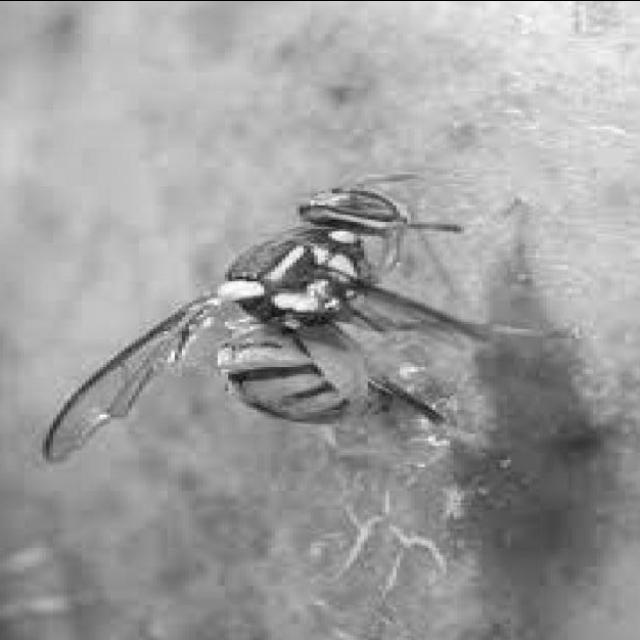Fruit fly: (32, 166, 588, 468)
